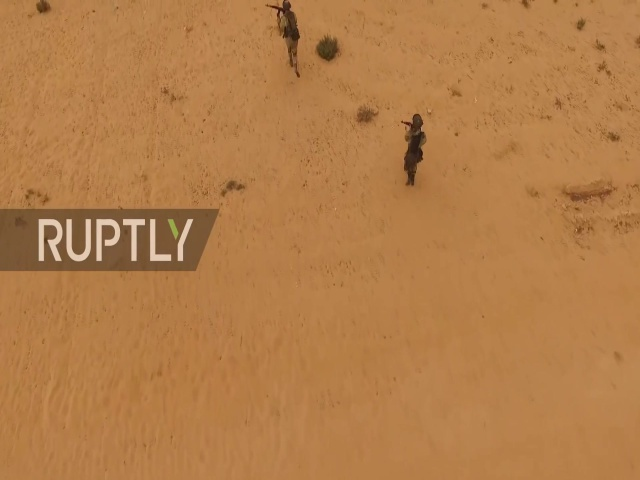person: (271, 1, 305, 80), (400, 111, 428, 185)
